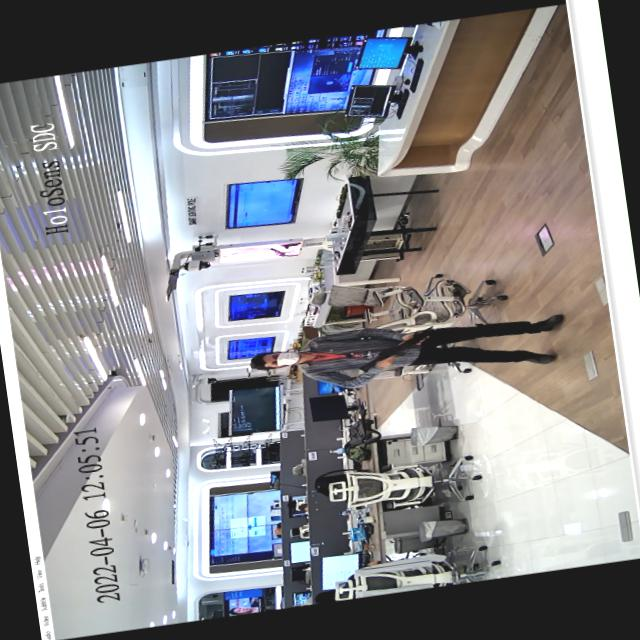long weapon: (351, 322, 444, 374)
